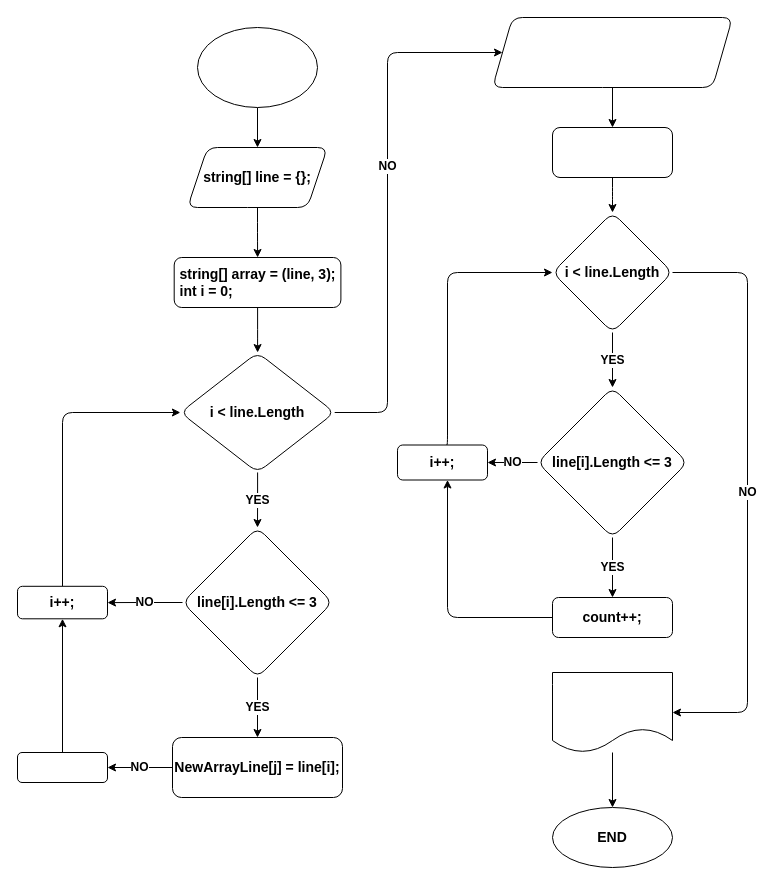
The diagram is 774 pixels wide and 885 high, and some of its shapes have lost their labels. Here are the shapes that lost their labels. From the top down, the centre of each, then its label:
the point at 257,67: Start
the point at 612,52: string[] NewArrayString = new string[NewString(ine, 3);
the point at 612,152: int count = 0; int i = 0;
the point at 612,712: array
the point at 62,767: j++;
